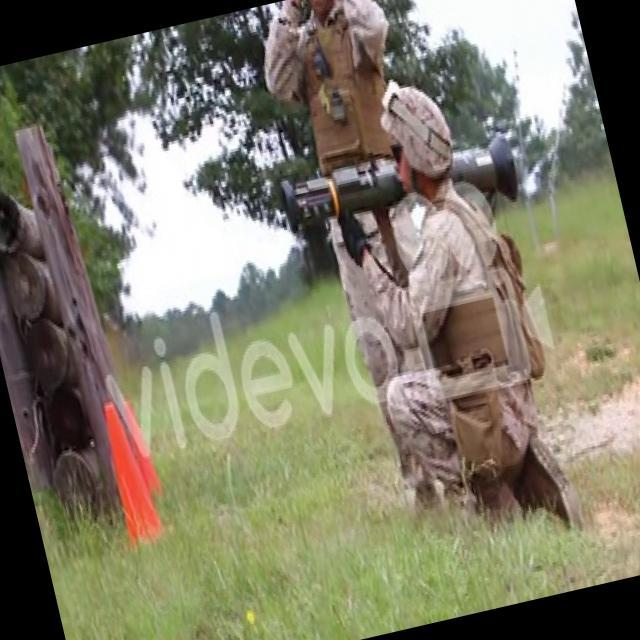rocket: (277, 122, 522, 248)
